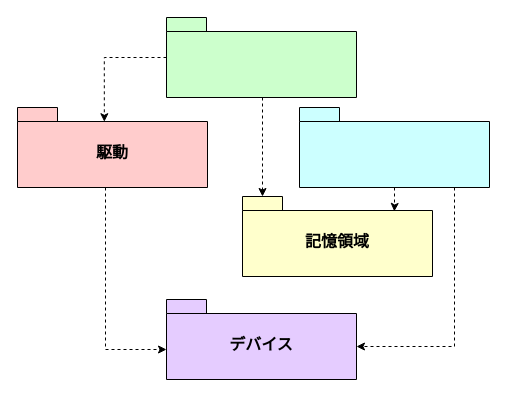
Image size: 507x397. Some labels were removed from this diagram. The centre of each missing label's shape, as x and y in pixels:
"意思決定" belongs at (261,57).
"知覚" belongs at (394,147).
